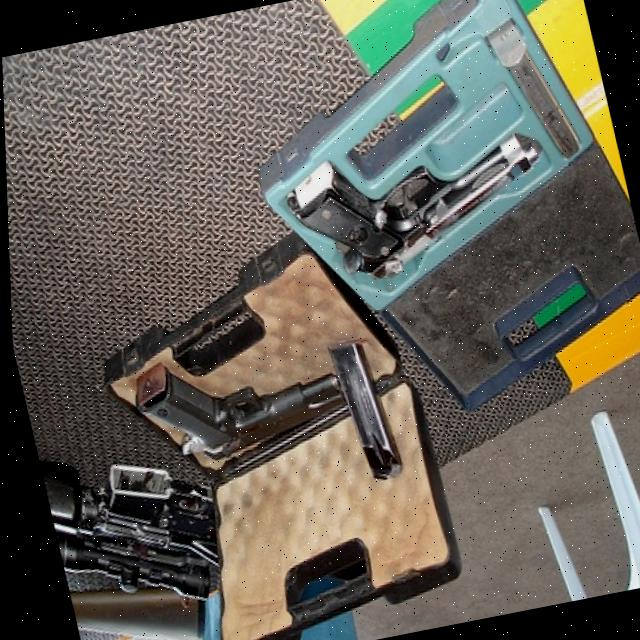firearm: (30, 414, 231, 628), (49, 504, 211, 640)
pistol: (277, 121, 563, 295), (123, 330, 351, 472)
